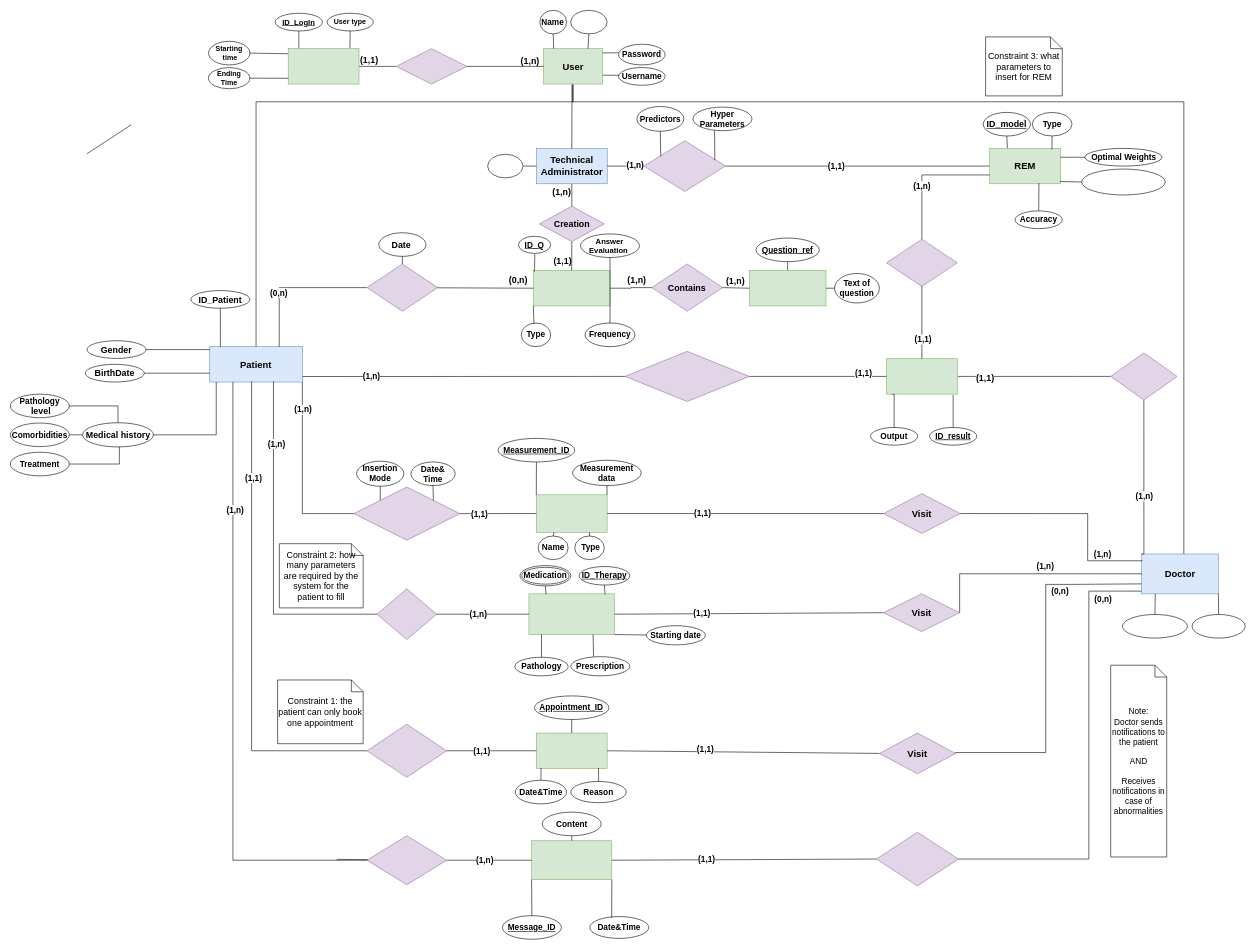
Image size: 1256x950. Some labels were removed from this diagram. Here are the shapes that lost their labels. From the top down, the box of each, then its label:
(570, 10, 607, 34): Surname
(288, 48, 359, 84): Metrics
(396, 48, 467, 84): Activity
(487, 154, 523, 178): ID_TA
(643, 140, 726, 191): Implementation
(1081, 168, 1165, 195): Optimal Hyper Parameters
(886, 239, 957, 286): Exports
(366, 263, 438, 311): Filling
(533, 270, 610, 306): Filled Questionnaire
(749, 270, 826, 306): Question
(625, 351, 749, 401): Delicate Reporting
(886, 358, 957, 394): REM result
(1110, 352, 1177, 400): Using
(353, 486, 460, 540): Parameter insertion
(536, 494, 607, 532): Measurement
(376, 588, 437, 640): Following
(528, 593, 614, 635): Therapy
(1122, 614, 1187, 638): Specialization
(1192, 614, 1245, 638): ID_doctor
(366, 724, 447, 777): Booking
(536, 732, 607, 768): Appointment
(366, 835, 447, 885): Receiving
(531, 840, 612, 880): Notifications
(876, 832, 958, 886): Managing
